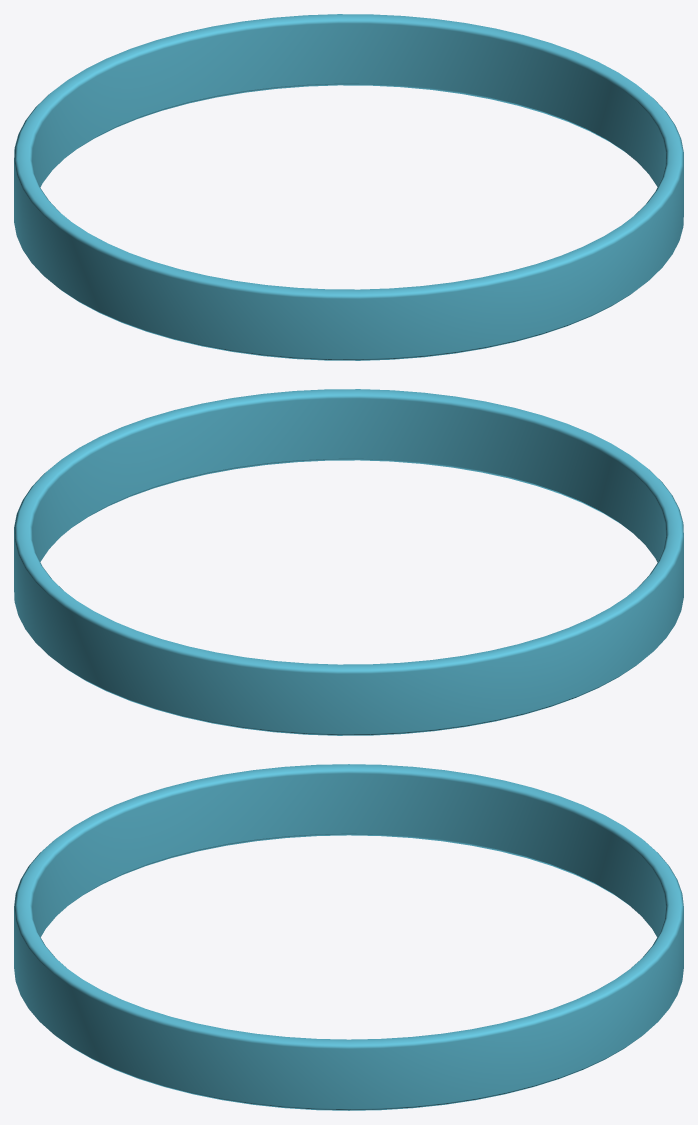
The picture shows the model from 3 angles, top to bottom: view 1: azimuth 30°, elevation 25°; view 2: azimuth 150°, elevation 25°; view 3: azimuth 270°, elevation 25°; orthographic projection.
Parts seen in each view (by area): view 1: seal_body; view 2: seal_body; view 3: seal_body.
Part boxes in pixels (x1,y1,x2,y2): seal_body: (14, 14, 683, 360); seal_body: (14, 389, 683, 735); seal_body: (14, 764, 683, 1110).
Size of the model in its own units: 0.1157 by 0.0127 by 0.1157.
